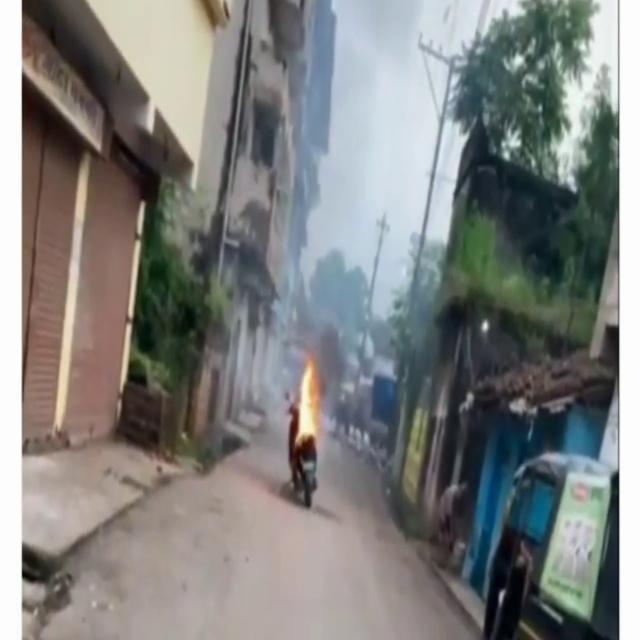Fire: (292, 350, 324, 454)
Smoke: (269, 15, 352, 368)
